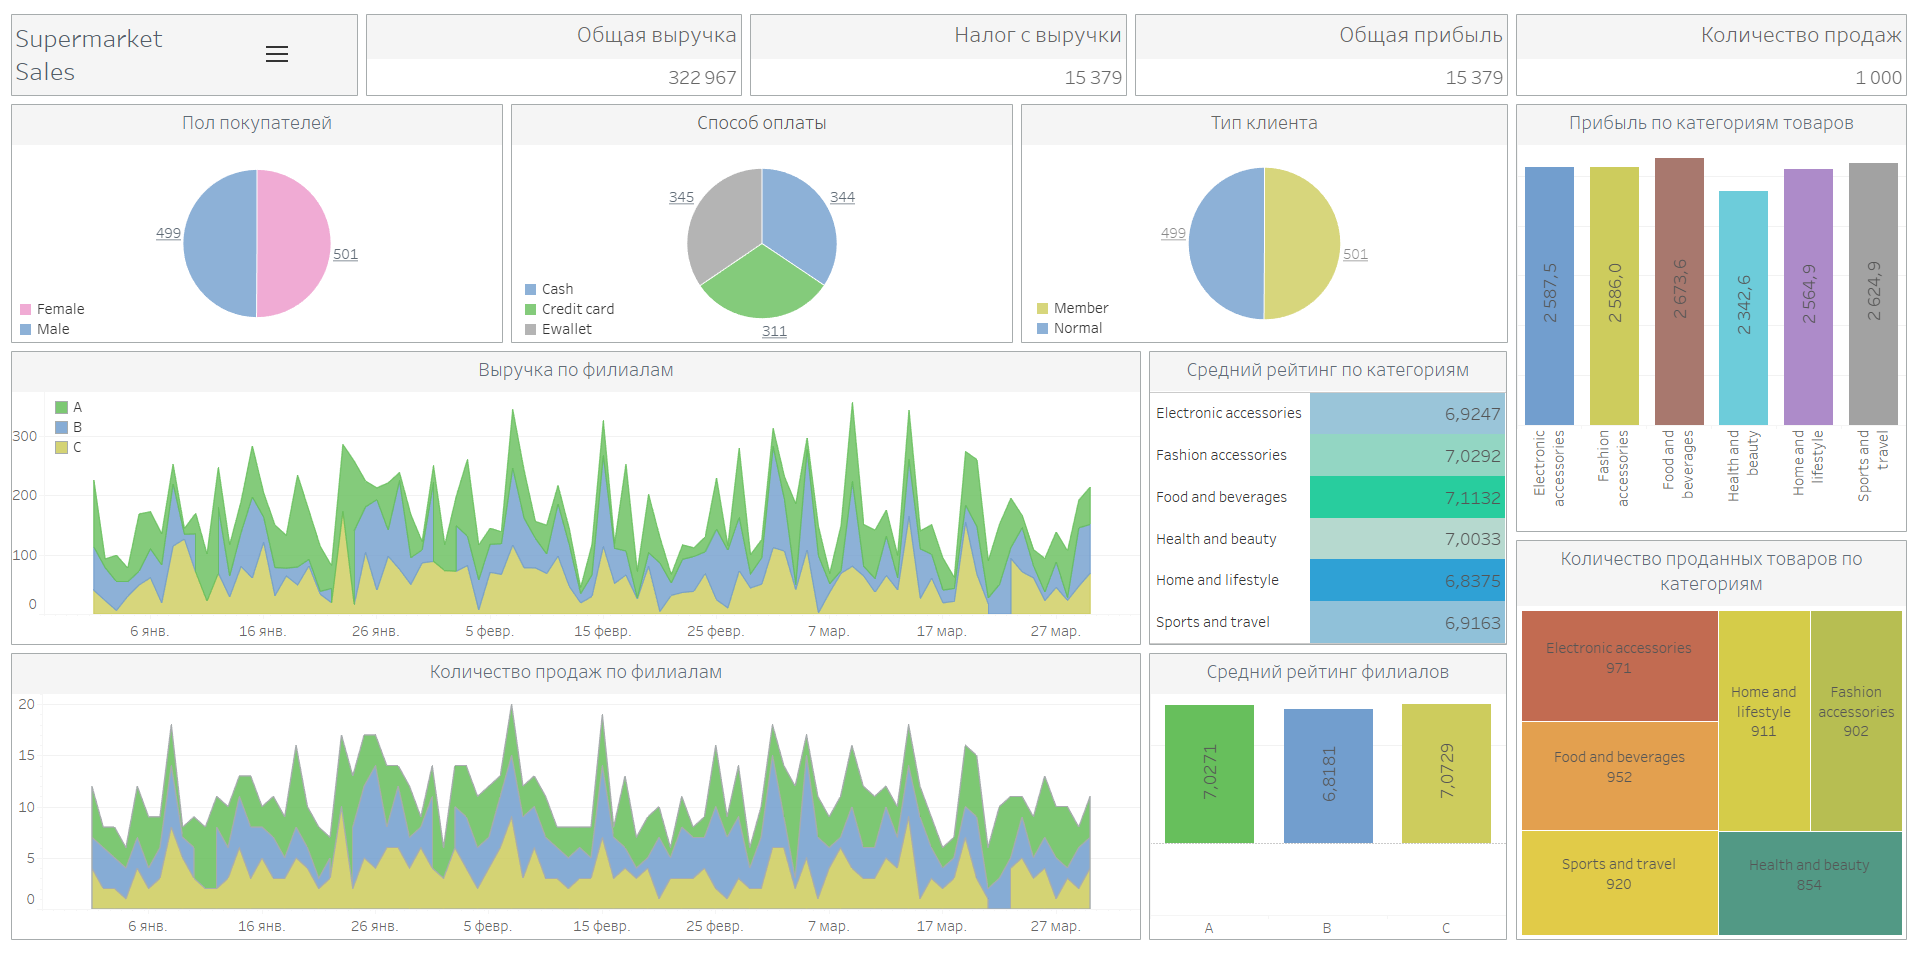

What the dashboard file says about the page in this screenshot:
{"tool":"tableau","page":{"name":"Overview","canvas":[1920,950],"ordinal":0},"visuals":[{"type":"text","box":[8,8,354.9,90.2]},{"type":"worksheet","title":"TR","mark":"Automatic","box":[362.9,8,384,90.2]},{"type":"worksheet","title":"TT","mark":"Automatic","box":[746.9,8,385,90.2]},{"type":"worksheet","title":"TP","mark":"Automatic","box":[1131.9,8,381,90.2]},{"type":"worksheet","title":"SC","mark":"Automatic","box":[1512.8,8,399.1,90.2]},{"type":"dashboard-object","box":[264,40,29,24]},{"type":"filter","title":"CQ","param":"[federated.0vq5nop1hpev0k14x6lz30j02jub].[tdy:date:qk]","box":[300,44,223,51]},{"type":"filter","title":"CQ","param":"[federated.0vq5nop1hpev0k14x6lz30j02jub].[none:name (branches):nk]","box":[300,95,223,102]},{"type":"worksheet","title":"G","mark":"Pie","box":[8,98.2,499.8,246.5]},{"type":"worksheet","title":"PM","mark":"Pie","box":[507.8,98.2,510,246.5]},{"type":"worksheet","title":"CT","mark":"Pie","box":[1017.8,98.2,495,246.5]},{"type":"worksheet","title":"CP","mark":"Automatic","rows":["gross_income"],"cols":["name (product_lines)"],"box":[1512.8,98.2,399.1,435.7]},{"type":"legend","title":"PM","param":"[federated.0vq5nop1hpev0k14x6lz30j02jub].[none:name (payment_methods):nk]","box":[521,277,127,62]},{"type":"legend","title":"CT","param":"[federated.0vq5nop1hpev0k14x6lz30j02jub].[none:name (customer_types):nk]","box":[1033,296,119,42]},{"type":"legend","title":"G","param":"[federated.0vq5nop1hpev0k14x6lz30j02jub].[none:gender:nk]","box":[16,297,88,42]},{"type":"worksheet","title":"BP","mark":"Area","rows":["gross_income"],"cols":["date"],"box":[8,344.7,1138.4,302.3]},{"type":"worksheet","title":"CR","mark":"Square","rows":["name (product_lines)"],"box":[1146.4,344.7,366.5,302.3]},{"type":"legend","title":"BSC","param":"[federated.0vq5nop1hpev0k14x6lz30j02jub].[none:name (branches):nk]","box":[52,395,40,62]},{"type":"worksheet","title":"CQ","mark":"Automatic","box":[1512.8,533.9,399.1,408.1]},{"type":"worksheet","title":"BSC","mark":"Area","rows":["id"],"cols":["date"],"box":[8,647,1138.4,295]},{"type":"worksheet","title":"BR","mark":"Automatic","rows":["rating"],"cols":["name (branches)"],"box":[1146.4,647,366.5,295]}]}

Visuals, with their boxes in screenshot pixels (x1, y1, x2, y2), scaled from the page's 1920x950 canvas onto the 1919x954 screenshot:
text: box=[8, 8, 363, 99]
"TR" worksheet: box=[363, 8, 747, 99]
"TT" worksheet: box=[747, 8, 1131, 99]
"TP" worksheet: box=[1131, 8, 1512, 99]
"SC" worksheet: box=[1512, 8, 1911, 99]
dashboard-object: box=[264, 40, 293, 64]
"CQ" filter: box=[300, 44, 523, 95]
"CQ" filter: box=[300, 95, 523, 198]
"G" worksheet (Pie marks): box=[8, 99, 508, 346]
"PM" worksheet (Pie marks): box=[508, 99, 1017, 346]
"CT" worksheet (Pie marks): box=[1017, 99, 1512, 346]
"CP" worksheet: box=[1512, 99, 1911, 536]
"PM" legend: box=[521, 278, 648, 340]
"CT" legend: box=[1032, 297, 1151, 339]
"G" legend: box=[16, 298, 104, 340]
"BP" worksheet (Area marks): box=[8, 346, 1146, 650]
"CR" worksheet (Square marks): box=[1146, 346, 1512, 650]
"BSC" legend: box=[52, 397, 92, 459]
"CQ" worksheet: box=[1512, 536, 1911, 946]
"BSC" worksheet (Area marks): box=[8, 650, 1146, 946]
"BR" worksheet: box=[1146, 650, 1512, 946]
